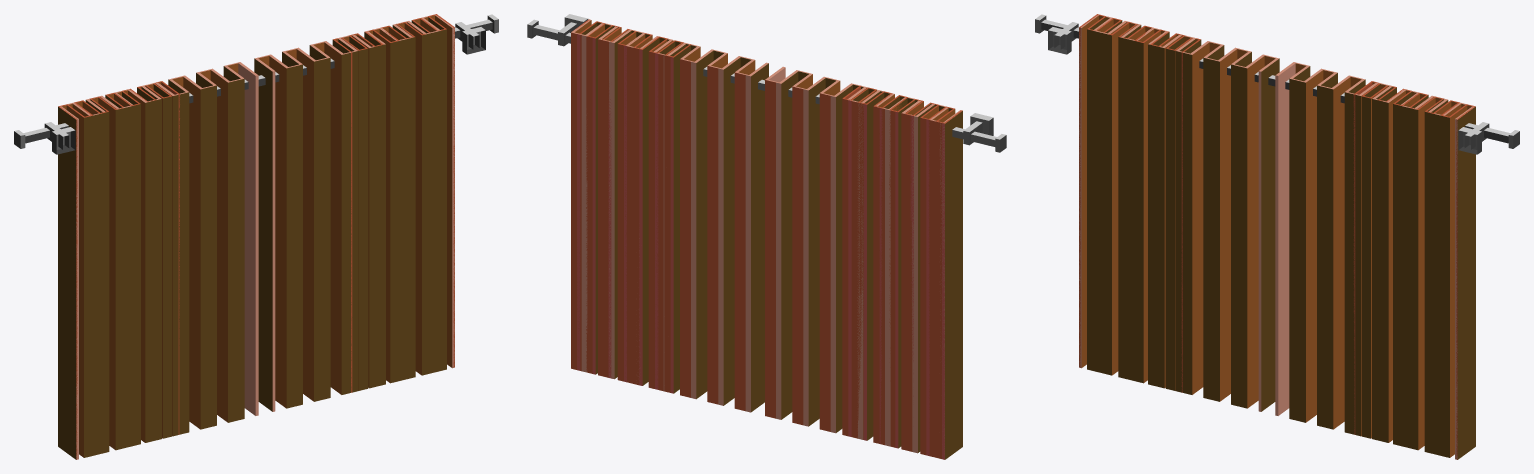
Rendered from Curtain.fbx.
3 renders of one model, left to right at view 1: azimuth 30°, elevation 25°; view 2: azimuth 150°, elevation 25°; view 3: azimuth 330°, elevation 25°, orthographic.
Visible parts, largest first — view 1: CurtainFabricUsedLvl1, CurtainFabricAvailableLvl1, CurtainHolder; view 2: CurtainFabricUsedLvl1, CurtainFabricAvailableLvl1, CurtainHolder; view 3: CurtainFabricUsedLvl1, CurtainFabricAvailableLvl1, CurtainHolder.
Part boxes in pixels (box(x1,y1,x2,y2)): CurtainFabricUsedLvl1: box(59, 15, 454, 459); CurtainFabricAvailableLvl1: box(58, 14, 454, 459); CurtainHolder: box(14, 14, 498, 154); CurtainFabricUsedLvl1: box(571, 19, 961, 457); CurtainFabricAvailableLvl1: box(571, 19, 962, 459); CurtainHolder: box(527, 14, 1006, 152); CurtainFabricUsedLvl1: box(1079, 15, 1474, 459); CurtainFabricAvailableLvl1: box(1079, 14, 1475, 459); CurtainHolder: box(1035, 14, 1519, 154).
Bounding box in the file's own units: 303 × 206 × 26.2.
